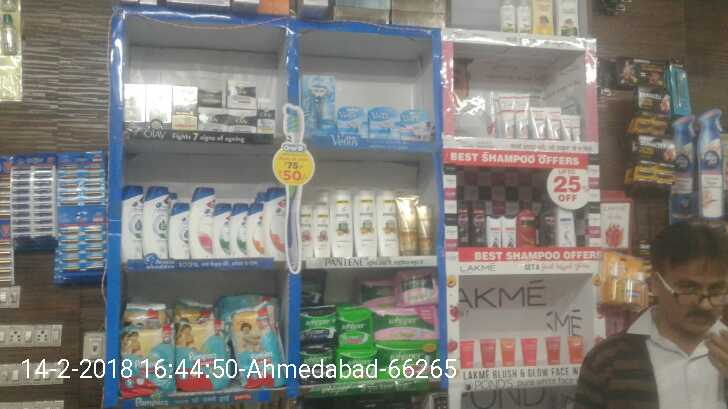venus: (303, 75, 338, 141), (369, 107, 401, 141), (338, 107, 369, 141), (401, 110, 431, 141)
